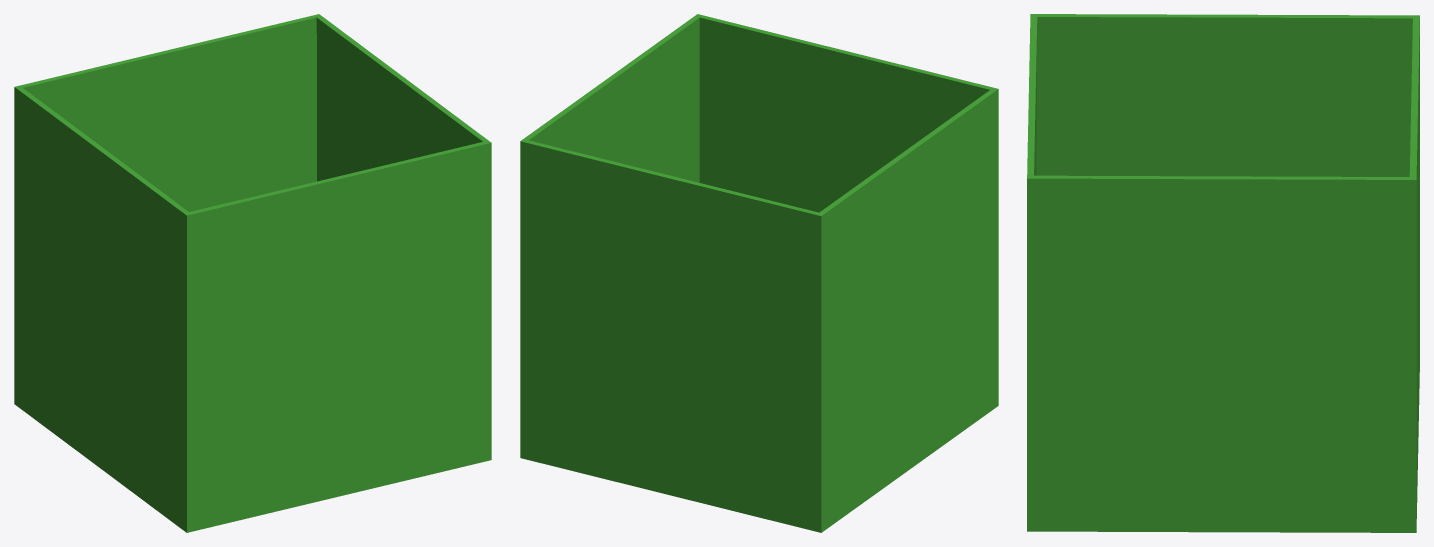
The model's file is Green_trashbin.dae.
3 renders of one model, left to right at view 1: azimuth 30°, elevation 25°; view 2: azimuth 150°, elevation 25°; view 3: azimuth 270°, elevation 25°, orthographic. The views are drawn at different scales.
Visible parts, largest first — view 1: BlueToyTrashbin_mesh; view 2: BlueToyTrashbin_mesh; view 3: BlueToyTrashbin_mesh.
Part boxes in pixels (x1,y1,x2,y2): BlueToyTrashbin_mesh: (14, 14, 491, 532); BlueToyTrashbin_mesh: (520, 14, 998, 532); BlueToyTrashbin_mesh: (1027, 14, 1419, 532).
Size of the model in its own units: 0.2794 by 0.2794 by 0.277.
